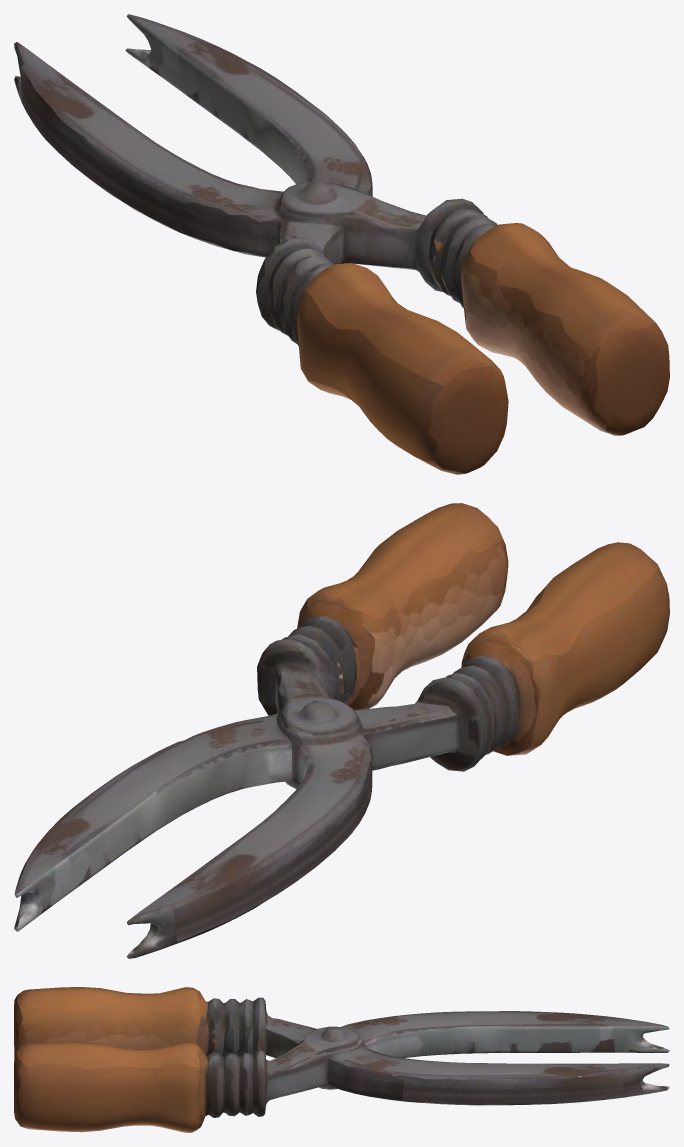
Rendered from clippers.glb.
3 views of the same model, one above another, from view 1: azimuth 30°, elevation 25°; view 2: azimuth 150°, elevation 25°; view 3: azimuth 270°, elevation 25° (orthographic). The views are drawn at different scales.
Parts seen in each view (by area): view 1: clippers; view 2: clippers; view 3: clippers.
Part boxes in pixels (box(x1,y1,x2,y2)): clippers: box(14, 14, 669, 474); clippers: box(14, 503, 669, 958); clippers: box(14, 987, 669, 1132).
Size of the model in its own units: 0.3097 by 0.1443 by 1.
Materials: 1 (1 with a texture image).
